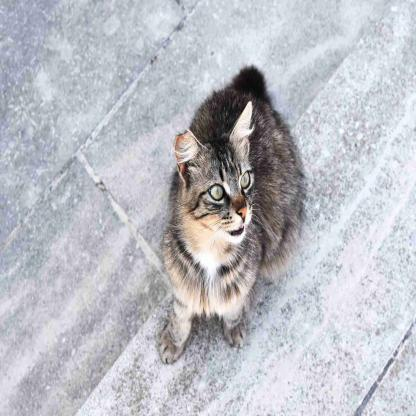cat: (159, 83, 307, 359)
